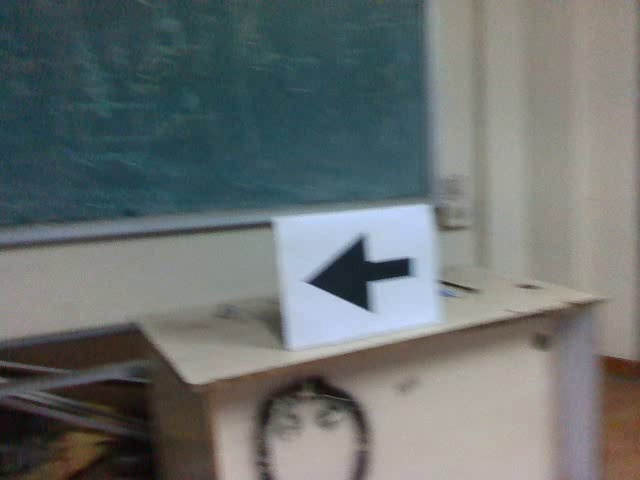Left: (300, 229, 417, 315)
